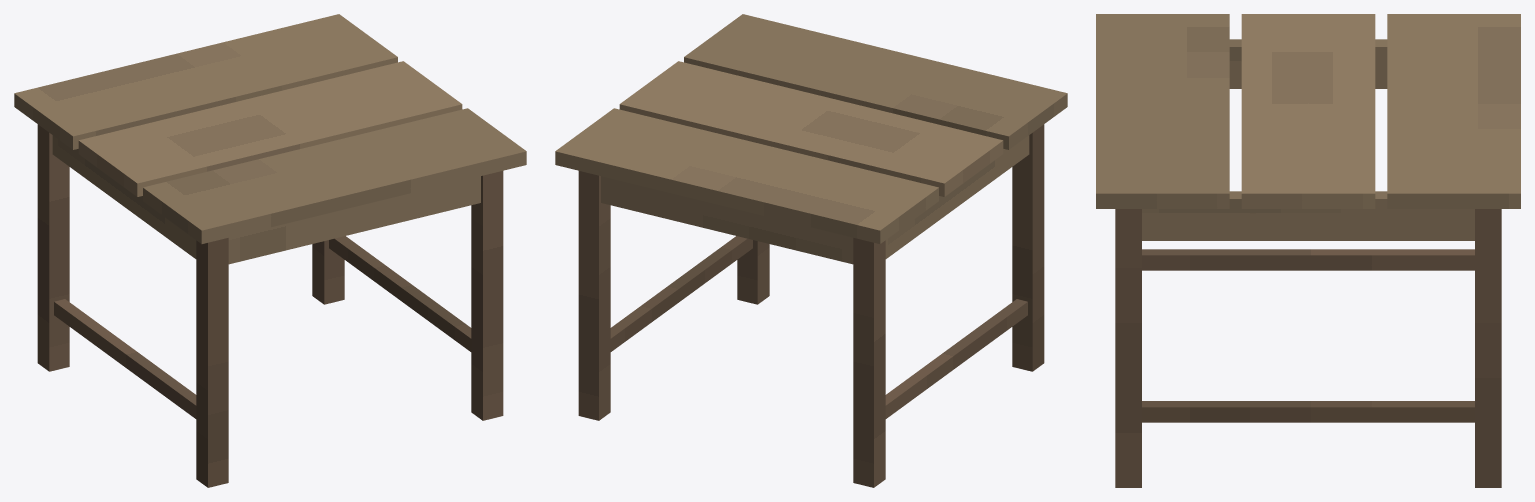
The model's file is wood-square-table.glb.
The picture shows the model from 3 angles, left to right: view 1: azimuth 30°, elevation 25°; view 2: azimuth 150°, elevation 25°; view 3: azimuth 270°, elevation 25°; orthographic projection. The views are drawn at different scales.
Visible parts, largest first — view 1: wood-square-table/top-board-0, wood-square-table/top-board-1, wood-square-table/top-board-2, wood-square-table/leg--0.37--0.37, wood-square-table/leg-0.37--0.37, wood-square-table/leg--0.37-0.37, wood-square-table/apron-long--1, wood-square-table/low-end-stretcher--1, wood-square-table/low-end-stretcher-1, wood-square-table/apron-end--1, wood-square-table/leg-0.37-0.37; view 2: wood-square-table/top-board-2, wood-square-table/top-board-1, wood-square-table/top-board-0, wood-square-table/leg--0.37-0.37, wood-square-table/leg-0.37-0.37, wood-square-table/leg--0.37--0.37, wood-square-table/apron-long-1, wood-square-table/low-end-stretcher--1, wood-square-table/low-end-stretcher-1, wood-square-table/apron-end--1, wood-square-table/leg-0.37--0.37; view 3: wood-square-table/top-board-1, wood-square-table/top-board-0, wood-square-table/top-board-2, wood-square-table/apron-end-1, wood-square-table/leg-0.37--0.37, wood-square-table/leg-0.37-0.37, wood-square-table/low-end-stretcher--1, wood-square-table/low-end-stretcher-1, wood-square-table/apron-end--1.
Part boxes in pixels (bbox=[...]): wood-square-table/top-board-0: bbox=[143, 108, 526, 243]; wood-square-table/top-board-1: bbox=[78, 61, 462, 196]; wood-square-table/top-board-2: bbox=[14, 14, 397, 149]; wood-square-table/leg--0.37--0.37: bbox=[196, 238, 228, 487]; wood-square-table/leg-0.37--0.37: bbox=[471, 171, 503, 420]; wood-square-table/leg--0.37-0.37: bbox=[37, 124, 69, 371]; wood-square-table/apron-long--1: bbox=[228, 176, 480, 264]; wood-square-table/low-end-stretcher--1: bbox=[54, 299, 196, 418]; wood-square-table/low-end-stretcher-1: bbox=[329, 236, 471, 351]; wood-square-table/apron-end--1: bbox=[52, 135, 196, 258]; wood-square-table/leg-0.37-0.37: bbox=[312, 240, 344, 304]; wood-square-table/top-board-2: bbox=[555, 108, 938, 243]; wood-square-table/top-board-1: bbox=[619, 61, 1003, 196]; wood-square-table/top-board-0: bbox=[684, 14, 1067, 149]; wood-square-table/leg--0.37-0.37: bbox=[853, 238, 885, 487]; wood-square-table/leg-0.37-0.37: bbox=[578, 171, 610, 420]; wood-square-table/leg--0.37--0.37: bbox=[1012, 124, 1044, 371]; wood-square-table/apron-long-1: bbox=[601, 176, 853, 264]; wood-square-table/low-end-stretcher--1: bbox=[885, 299, 1027, 418]; wood-square-table/low-end-stretcher-1: bbox=[610, 236, 752, 351]; wood-square-table/apron-end--1: bbox=[885, 135, 1029, 258]; wood-square-table/leg-0.37--0.37: bbox=[737, 240, 769, 304]; wood-square-table/top-board-1: bbox=[1241, 14, 1375, 208]; wood-square-table/top-board-0: bbox=[1096, 14, 1229, 208]; wood-square-table/top-board-2: bbox=[1387, 14, 1520, 208]; wood-square-table/apron-end-1: bbox=[1142, 191, 1474, 240]; wood-square-table/leg-0.37--0.37: bbox=[1115, 209, 1141, 487]; wood-square-table/leg-0.37-0.37: bbox=[1475, 209, 1501, 487]; wood-square-table/low-end-stretcher--1: bbox=[1142, 249, 1474, 270]; wood-square-table/low-end-stretcher-1: bbox=[1142, 401, 1474, 422]; wood-square-table/apron-end--1: bbox=[1229, 39, 1387, 88].
Size of the model in its own units: 0.875 by 0.6875 by 0.875.
2 materials, 2 textured.
